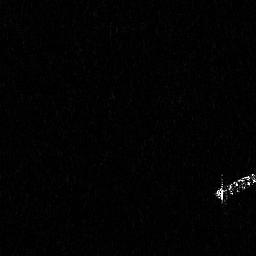ship: (213, 171, 256, 209)
